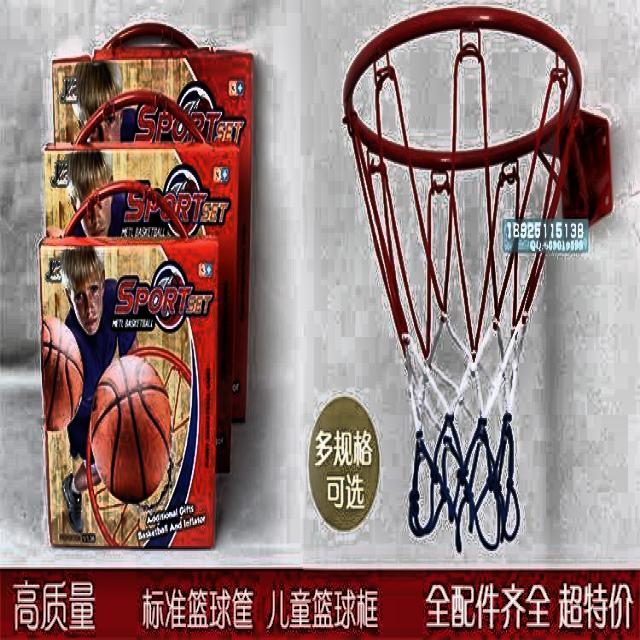rim: (344, 6, 584, 551)
